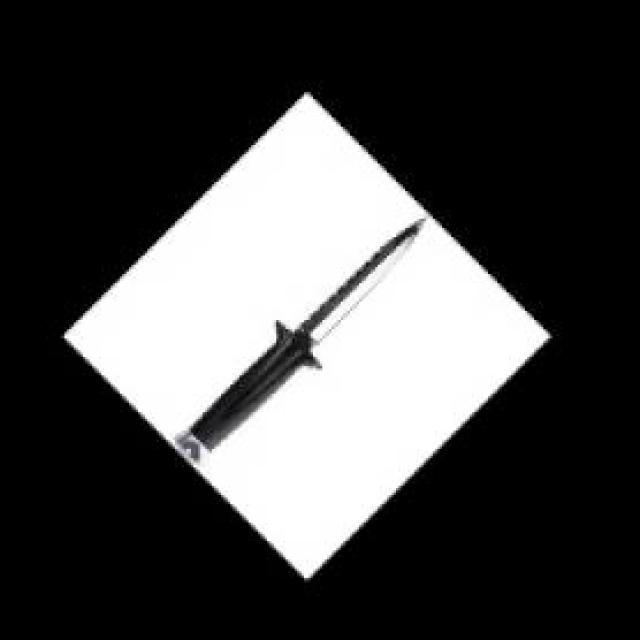knife: (173, 210, 428, 465)
